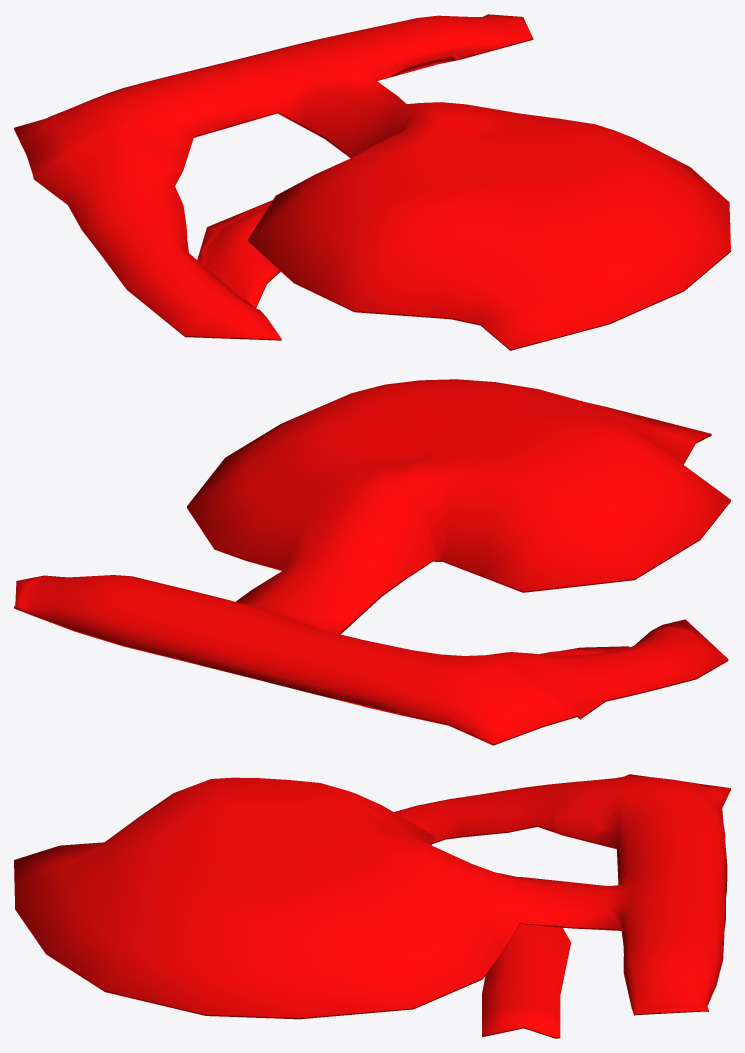
Rendered from CaveTestRoofShape.dae.
3 views of the same model, one above another, from view 1: azimuth 30°, elevation 25°; view 2: azimuth 150°, elevation 25°; view 3: azimuth 270°, elevation 25° (orthographic). The views are drawn at different scales.
Visible parts, largest first — view 1: CaveTestRoof; view 2: CaveTestRoof; view 3: CaveTestRoof.
Boxes of the visible parts, x1,y1,x2,y2 form: CaveTestRoof: [14, 14, 730, 350]; CaveTestRoof: [14, 379, 730, 745]; CaveTestRoof: [14, 774, 730, 1038].
Size of the model in its own units: 87.39 by 21.62 by 102.
